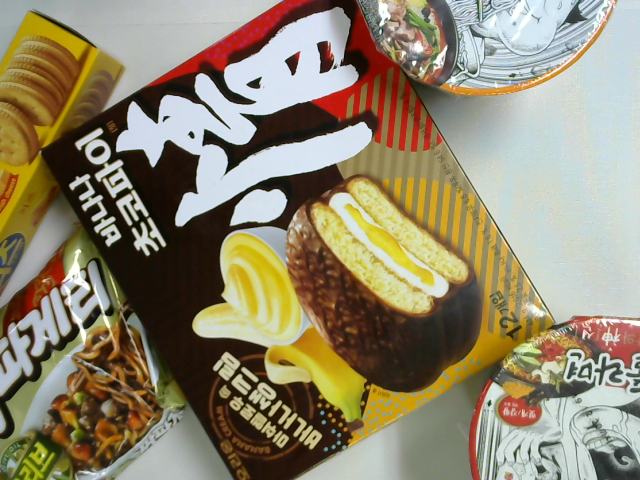Choco_Pie_Banana: (41, 1, 557, 480)
Hejangchan: (354, 1, 614, 101)
Hejangpul: (466, 318, 638, 480)
Olive_Chapaghetti: (1, 218, 189, 479)
Ritz_Sand_Cracker: (1, 11, 126, 301)
